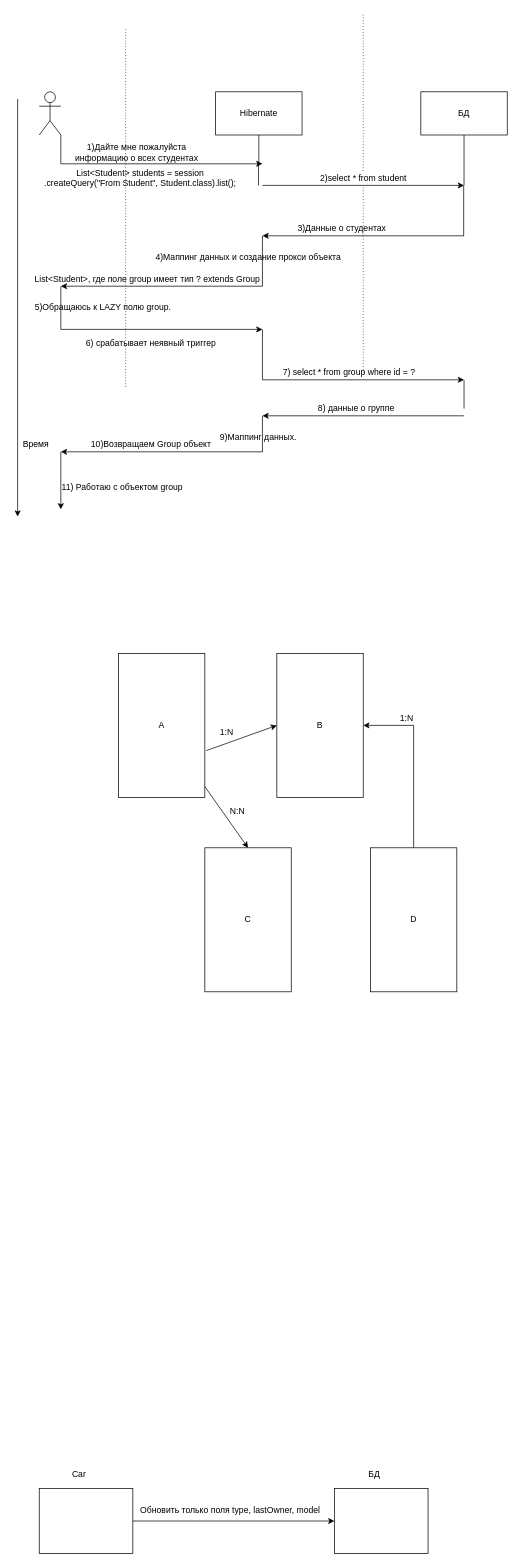
The diagram is 520 pixels wide and 1566 high, and some of its shapes have lost their labels. The shapes that lost their labels are listed below. From the top down, each one's box as (x1, y1, x2, y2) in pixels, then its label:
(39, 91, 61, 135): клиент
(39, 1488, 133, 1553): model type yearOfManufacture lastOwner ...
